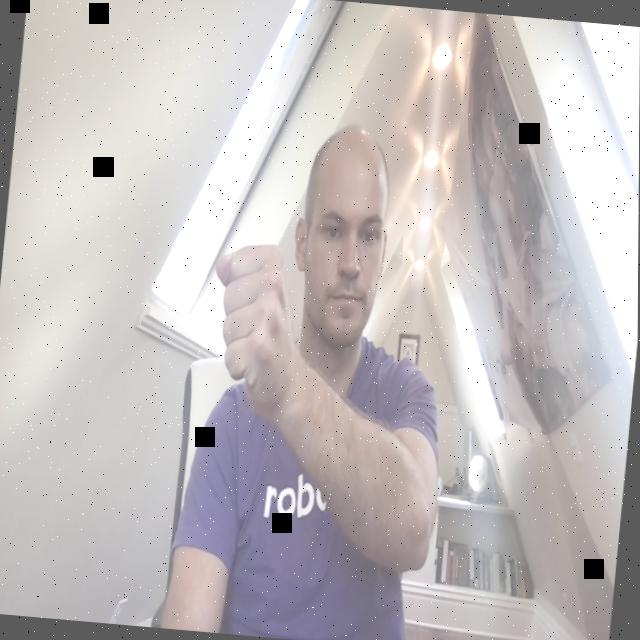Rock: (194, 238, 306, 400)
